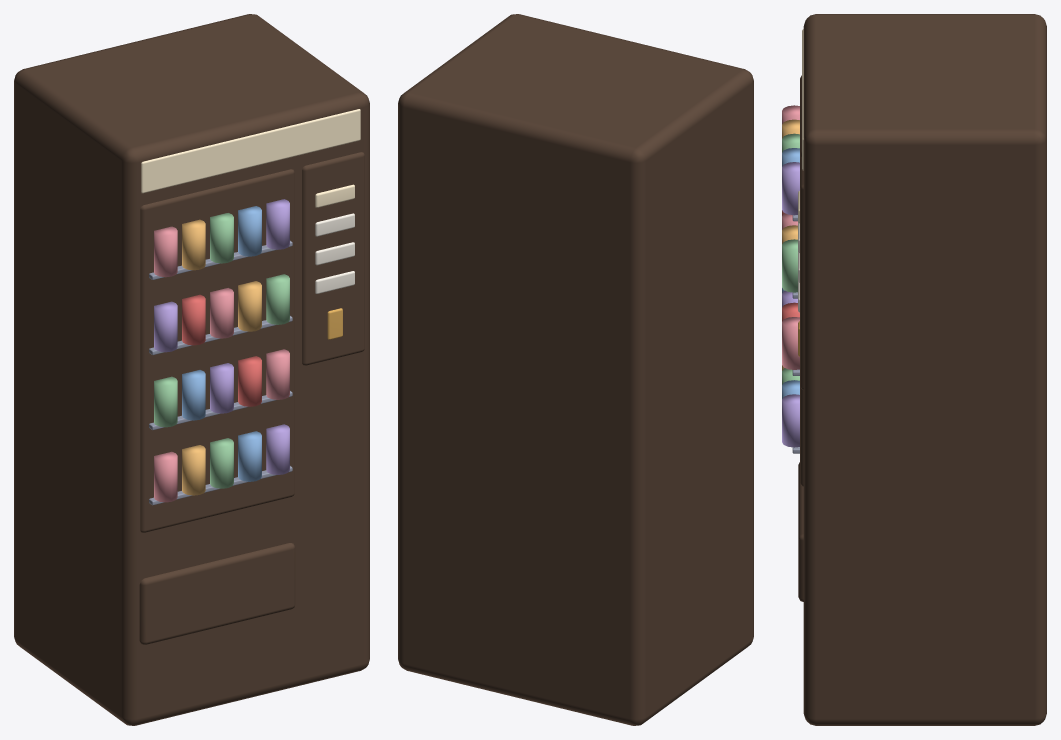
The model's file is vending.glb.
The picture shows the model from 3 angles, left to right: view 1: azimuth 30°, elevation 25°; view 2: azimuth 150°, elevation 25°; view 3: azimuth 270°, elevation 25°; orthographic projection. The views are drawn at different scales.
Visible parts, largest first — view 1: vending; view 2: vending; view 3: vending.
Part boxes in pixels (x1,y1,x2,y2): vending: (14, 14, 369, 725); vending: (398, 14, 753, 725); vending: (782, 14, 1046, 725).
Bounding box in the file's own units: 0.8088 × 1.81 × 0.7284.
